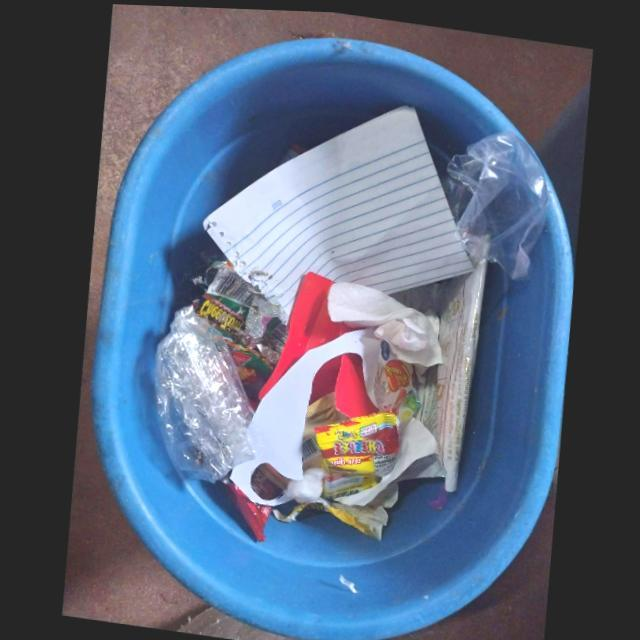paper: (224, 269, 380, 538), (320, 414, 444, 511), (327, 278, 438, 365)
plastic: (154, 303, 248, 480), (440, 129, 544, 274)
wrapper: (311, 409, 397, 497), (306, 479, 395, 536), (198, 262, 253, 328), (223, 345, 264, 406)
